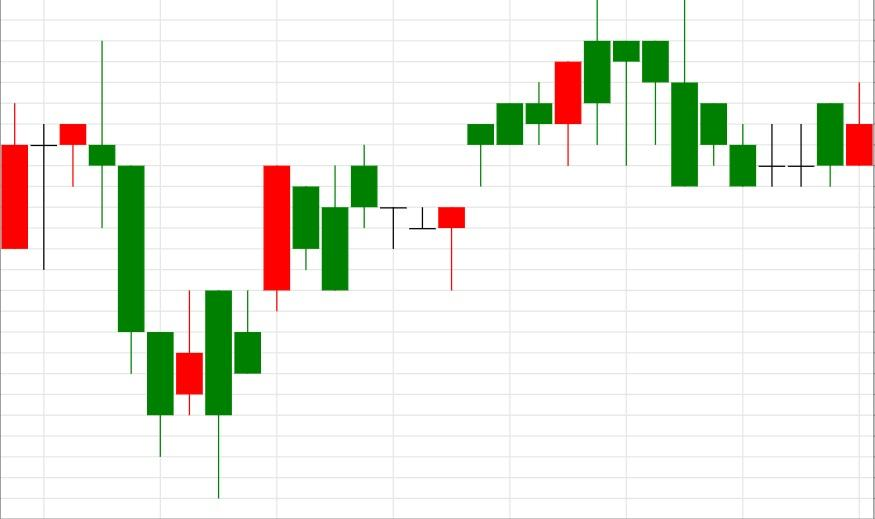hammer_rise: (350, 144, 466, 291)
hanging_man_fall: (437, 0, 640, 291), (0, 102, 88, 271)
